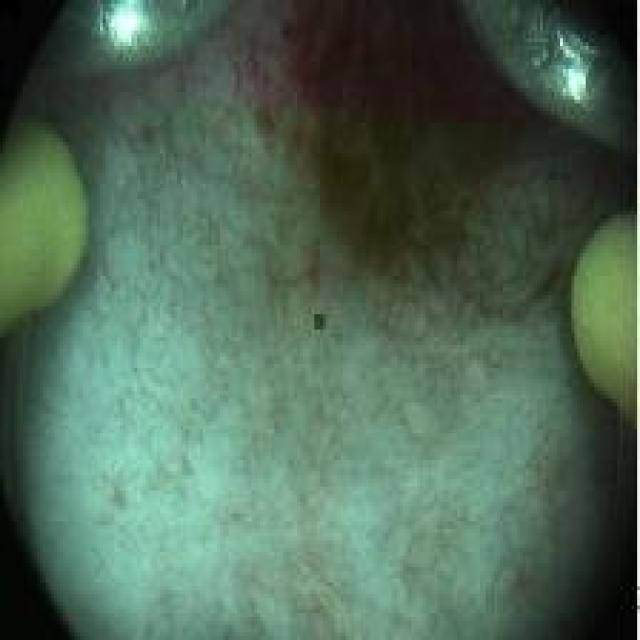color misalignment: (311, 310, 326, 334)
contrast: (307, 2, 533, 288)
instrument: (452, 1, 637, 160), (0, 121, 89, 339), (18, 1, 242, 79), (570, 211, 636, 433)
specularity: (107, 5, 151, 49), (562, 59, 587, 106)
